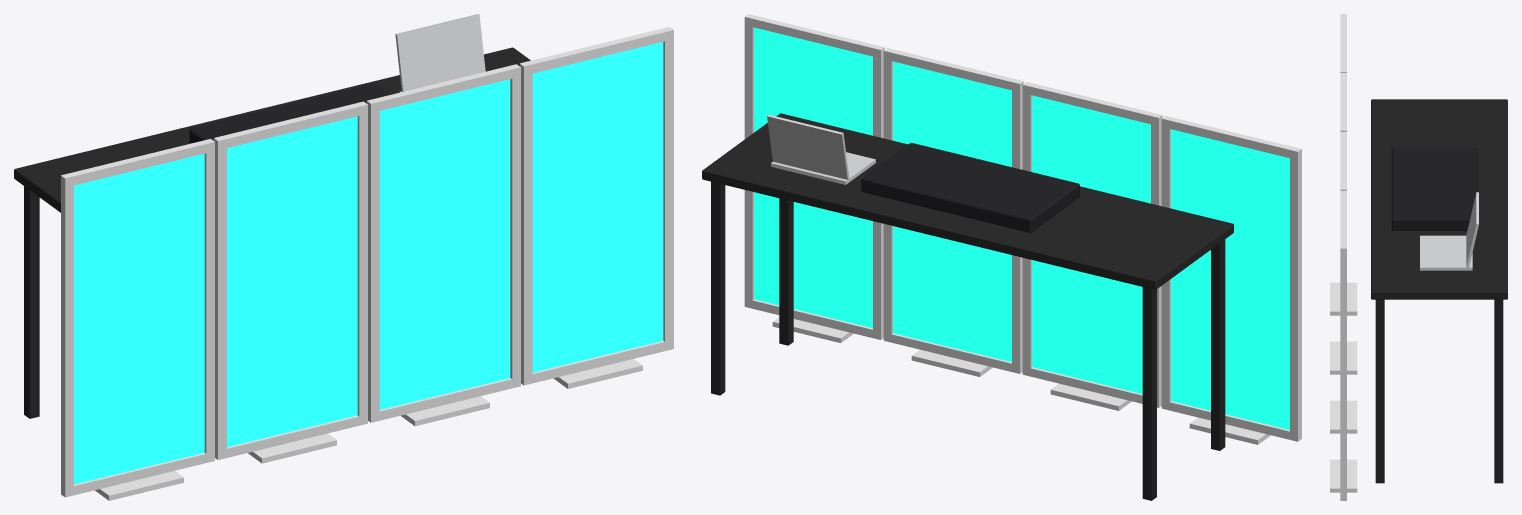
File: dj-booth.glb
3 renders of one model, left to right at view 1: azimuth 30°, elevation 25°; view 2: azimuth 150°, elevation 25°; view 3: azimuth 270°, elevation 25°, orthographic. The views are drawn at different scales.
Parts seen in each view (by area): view 1: Panel_3_tela, Panel_4_tela, Panel_1_tela, Panel_2_tela, Mesa_DJ, Laptop_pantalla, Panel_1_marcoV, Panel_2_marcoV, Panel_4_marcoV, Panel_3_marcoV, Mesa_pata.001, Panel_2_marcoV.001 (+16 smaller); view 2: Panel_1_tela, Mesa_DJ, Panel_3_tela, Panel_2_tela, Panel_4_tela, Controlador_DJ, Laptop_pantalla, Panel_1_marcoV, Mesa_pata.001, Mesa_pata.003, Mesa_pata, Panel_4_marcoV.001 (+20 smaller); view 3: Mesa_DJ, Controlador_DJ, Mesa_pata.002, Mesa_pata.003, Panel_4_marcoV.001, Laptop_base, Panel_1_pata, Panel_2_pata, Panel_3_pata, Panel_4_pata, Laptop_pantalla, Panel_4_marcoH.001 (+3 smaller).
Boxes of the visible parts, x1,y1,x2,y2 form: Panel_3_tela: (379,79,510,409); Panel_4_tela: (532,42,663,372); Panel_1_tela: (74,153,204,484); Panel_2_tela: (227,116,357,446); Mesa_DJ: (14,47,530,212); Laptop_pantalla: (395,14,485,91); Panel_1_marcoV: (61,173,73,496); Panel_2_marcoV: (214,136,226,459); Panel_4_marcoV: (519,61,532,383); Panel_3_marcoV: (367,98,379,413); Mesa_pata.001: (24,186,39,418); Panel_2_marcoV.001: (355,101,367,425); Panel_1_tela: (1171,129,1289,429); Mesa_DJ: (702,113,1233,289); Panel_3_tela: (893,61,1011,361); Panel_2_tela: (1032,95,1150,393); Panel_4_tela: (754,27,872,328); Controlador_DJ: (861,143,1079,232); Laptop_pantalla: (767,114,849,180); Panel_1_marcoV: (1290,147,1301,441); Mesa_pata.001: (1142,287,1156,500); Mesa_pata.003: (711,181,725,395); Mesa_pata: (1211,239,1225,450); Panel_4_marcoV.001: (744,14,755,307); Mesa_DJ: (1371,99,1507,299); Controlador_DJ: (1391,147,1478,230); Mesa_pata.002: (1375,299,1384,483); Mesa_pata.003: (1494,299,1503,483); Panel_4_marcoV.001: (1340,245,1346,500); Laptop_base: (1420,235,1472,270); Panel_1_pata: (1330,282,1357,315); Panel_2_pata: (1330,341,1357,374); Panel_3_pata: (1330,400,1357,433); Panel_4_pata: (1330,459,1357,492); Laptop_pantalla: (1466,192,1478,268); Panel_4_marcoH.001: (1340,194,1346,255).
Bounding box in the file's own units: 2.44 × 1.25 × 0.78.
